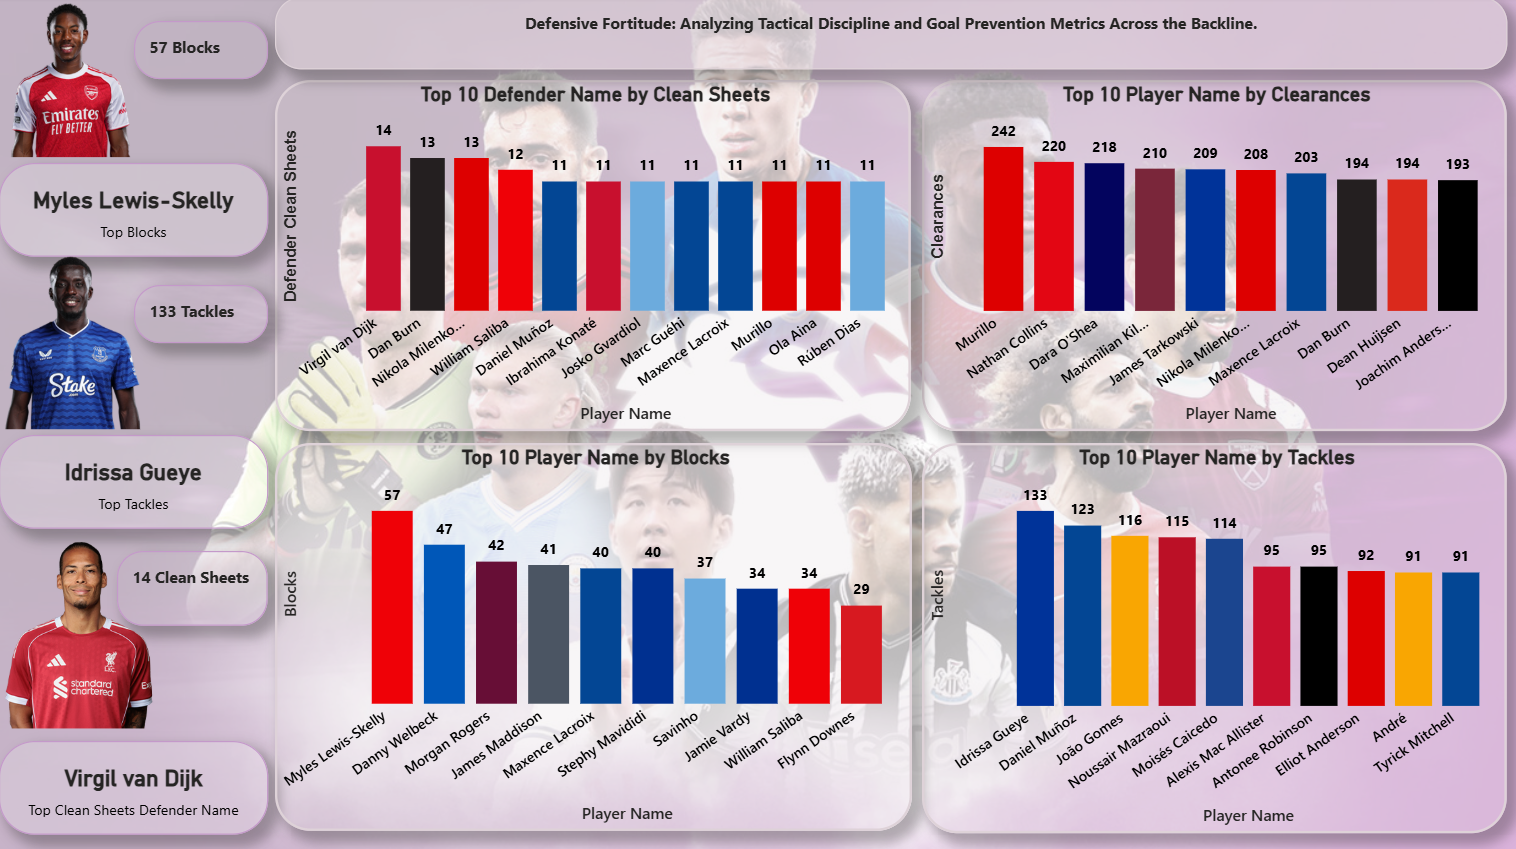

What the dashboard file says about the page in this screenshot:
{"tool":"powerbi","page":{"name":"Defender Performance Summary","canvas":[1280,720],"ordinal":6},"visuals":[{"type":"card","fields":{"Values":["epl_player_stats_24_25.Top Blocks"]},"box":[0,140.1,226.6,78.8],"z":0},{"type":"image","box":[0,0,119.1,139.7],"z":1000},{"type":"textbox","box":[113.7,20.6,112.8,49.3],"z":2000},{"type":"columnChart","title":"Top 10 Player Name by Clearances","fields":{"Category":["epl_player_stats_24_25.Player Name"],"Y":["Sum(epl_player_stats_24_25.Clearances)"]},"box":[778.1,70,493.1,295.7],"z":3000},{"type":"columnChart","title":"Top 10 Defender Name by Clean Sheets","fields":{"Category":["epl_player_stats_24_25.Player Name"],"Y":["epl_player_stats_24_25.Defender Clean Sheets"]},"box":[232.8,69.9,536.4,295.5],"z":4000},{"type":"card","fields":{"Values":["epl_player_stats_24_25.Top Defender Clean Sheets"]},"box":[0,626.9,226.6,78.8],"z":5000},{"type":"card","fields":{"Values":["epl_player_stats_24_25.Top Tackles"]},"box":[0,369,226.6,78.8],"z":6000},{"type":"textbox","box":[113.8,243.2,112.8,48.6],"z":7000},{"type":"textbox","box":[99.4,467.5,127.2,62.7],"z":8000},{"type":"image","box":[0,207.8,123.6,168.4],"z":9000},{"type":"image","box":[0,447.8,135.2,179.1],"z":10000},{"type":"columnChart","title":"Top 10 Player Name by Blocks","fields":{"Category":["epl_player_stats_24_25.Player Name"],"Y":["Sum(epl_player_stats_24_25.Blocks)"]},"box":[232.5,376.4,536.9,326.8],"z":11000},{"type":"columnChart","title":"Top 10 Player Name by Tackles","fields":{"Category":["epl_player_stats_24_25.Player Name"],"Y":["Sum(epl_player_stats_24_25.Tackles)"]},"box":[778.2,376.1,493.4,328.7],"z":12000},{"type":"textbox","box":[232.8,0,1038.8,60.9],"z":13000}]}

Visuals, with their boxes in screenshot pixels (x1, y1, x2, y2), scaled from the page's 1280x720 canvas onto the 1516x849 screenshot:
card - epl_player_stats_24_25.Top Blocks: {"x1": 0, "y1": 165, "x2": 268, "y2": 258}
image: {"x1": 0, "y1": 0, "x2": 141, "y2": 165}
textbox: {"x1": 135, "y1": 24, "x2": 268, "y2": 82}
"Top 10 Player Name by Clearances" columnChart: {"x1": 922, "y1": 83, "x2": 1506, "y2": 431}
"Top 10 Defender Name by Clean Sheets" columnChart: {"x1": 276, "y1": 82, "x2": 911, "y2": 431}
card - epl_player_stats_24_25.Top Defender Clean Sheets: {"x1": 0, "y1": 739, "x2": 268, "y2": 832}
card - epl_player_stats_24_25.Top Tackles: {"x1": 0, "y1": 435, "x2": 268, "y2": 528}
textbox: {"x1": 135, "y1": 287, "x2": 268, "y2": 344}
textbox: {"x1": 118, "y1": 551, "x2": 268, "y2": 625}
image: {"x1": 0, "y1": 245, "x2": 146, "y2": 444}
image: {"x1": 0, "y1": 528, "x2": 160, "y2": 739}
"Top 10 Player Name by Blocks" columnChart: {"x1": 275, "y1": 444, "x2": 911, "y2": 829}
"Top 10 Player Name by Tackles" columnChart: {"x1": 922, "y1": 443, "x2": 1506, "y2": 831}
textbox: {"x1": 276, "y1": 0, "x2": 1506, "y2": 72}
